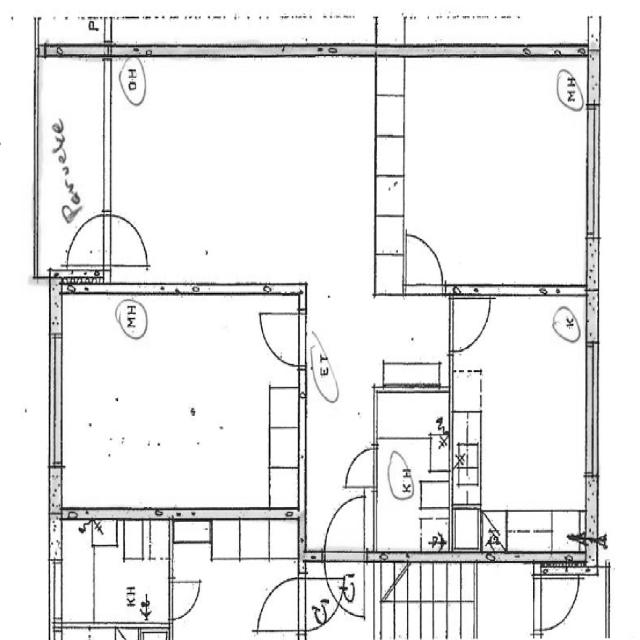door: (338, 442, 377, 548), (532, 562, 582, 634), (321, 489, 372, 555), (252, 572, 304, 636), (448, 287, 494, 358), (256, 306, 304, 370), (101, 210, 152, 270), (63, 208, 109, 272), (402, 227, 448, 290), (166, 568, 206, 624), (342, 443, 379, 495)
window: (97, 59, 117, 216), (488, 275, 582, 308)
zone: (111, 56, 374, 287), (54, 298, 304, 511), (380, 54, 596, 290), (451, 288, 595, 553), (166, 516, 301, 640), (40, 50, 107, 273), (52, 517, 172, 639), (374, 411, 454, 557), (373, 254, 405, 296)
